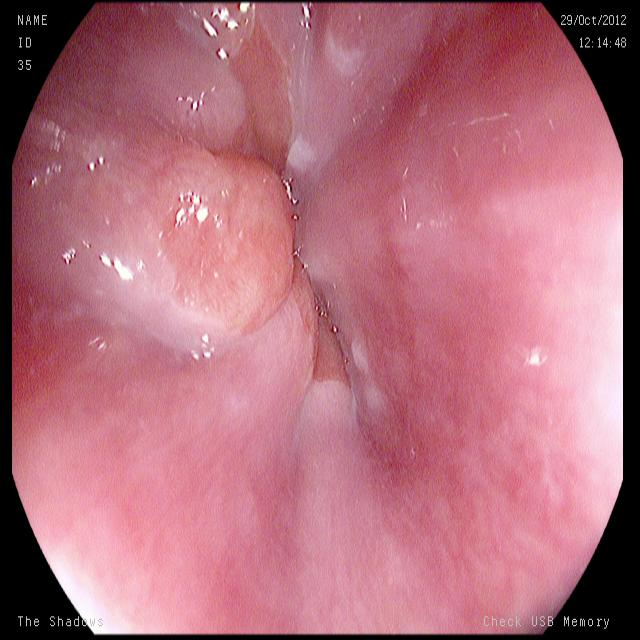Normal-Z-Line: (154, 0, 376, 421)
